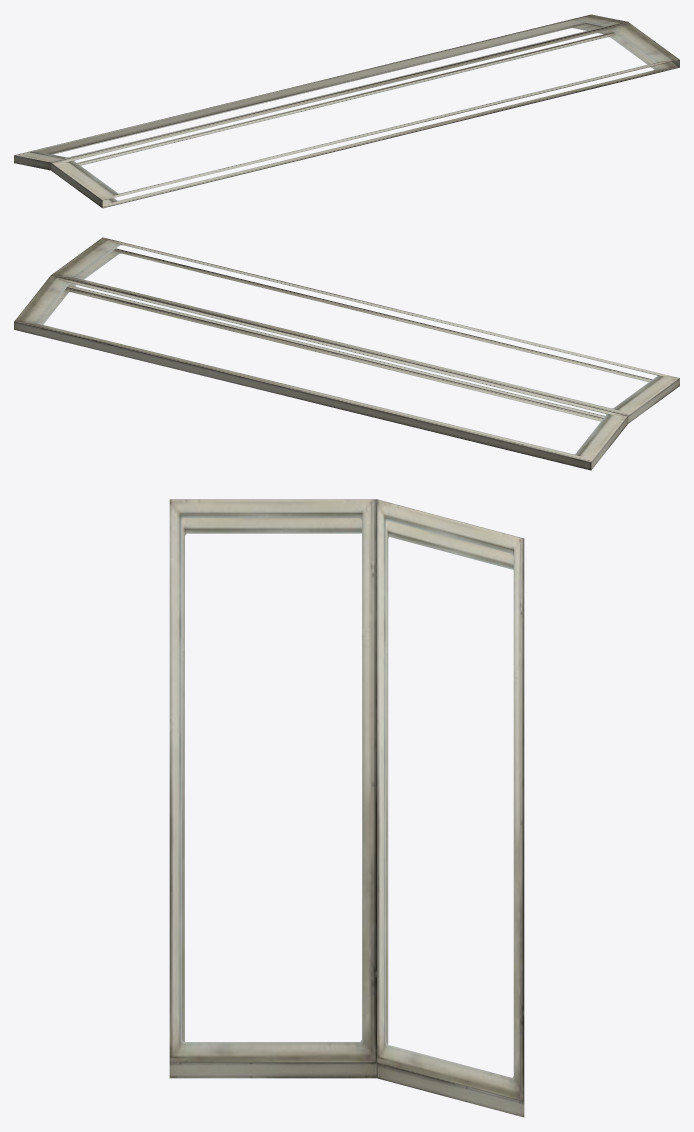
File: scaffold.obj
3 renders of one model, top to bottom at view 1: azimuth 30°, elevation 25°; view 2: azimuth 150°, elevation 25°; view 3: azimuth 270°, elevation 25°, orthographic. The views are drawn at different scales.
Visible parts, largest first — view 1: Cube.004_Cube.005; view 2: Cube.004_Cube.005; view 3: Cube.004_Cube.005.
Boxes of the visible parts, x1,y1,x2,y2 form: Cube.004_Cube.005: (14,14,679,208); Cube.004_Cube.005: (14,237,679,470); Cube.004_Cube.005: (169,499,524,1117).
Bounding box in the file's own units: 15.4 × 0.7 × 4.1.
1 material, 1 textured.
